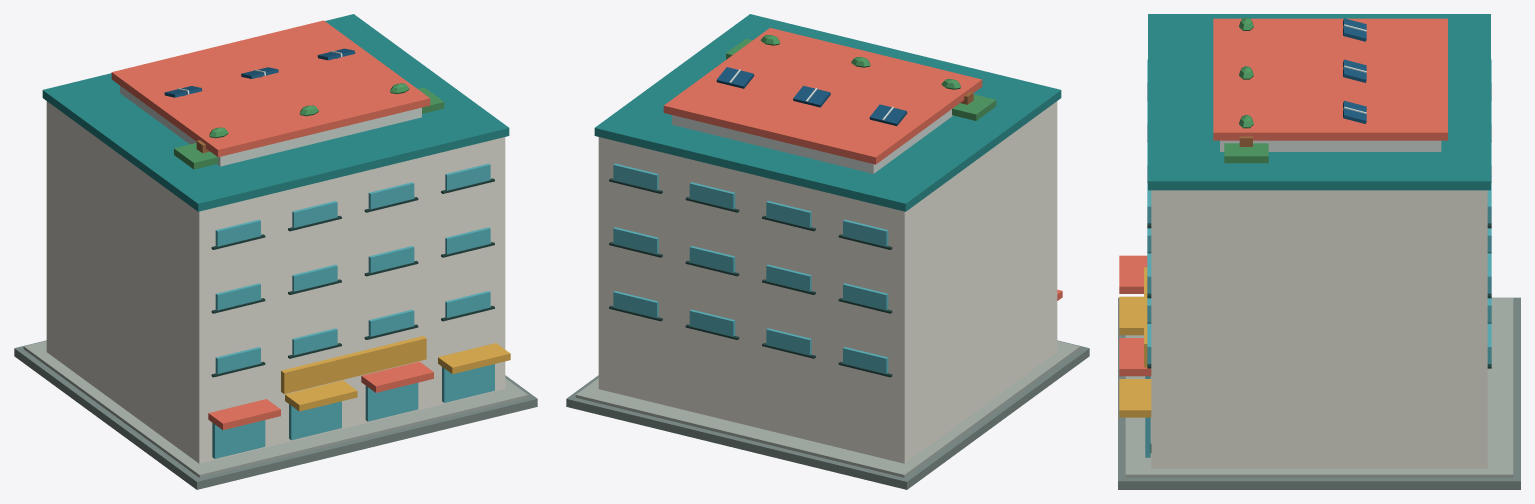
File: market_lv4.glb
3 views of the same model, side by side, from view 1: azimuth 30°, elevation 25°; view 2: azimuth 150°, elevation 25°; view 3: azimuth 270°, elevation 25° (orthographic). The views are drawn at different scales.
Parts seen in each view (by area): view 1: ivory, coral, teal, glass, concrete, pavement, gold, white, dark, green, solar; view 2: ivory, teal, coral, glass, concrete, pavement, white, dark, solar, green; view 3: ivory, coral, teal, concrete, pavement, gold, white, glass, green, solar.
Boxes of the visible parts, x1=… form: ivory: x1=46, y1=101, x2=505, y2=463; coral: x1=111, y1=20, x2=433, y2=429; teal: x1=42, y1=14, x2=509, y2=211; glass: x1=212, y1=163, x2=494, y2=458; concrete: x1=23, y1=341, x2=528, y2=477; pavement: x1=14, y1=340, x2=537, y2=489; gold: x1=281, y1=336, x2=510, y2=411; white: x1=120, y1=50, x2=421, y2=166; dark: x1=211, y1=178, x2=494, y2=377; green: x1=174, y1=83, x2=444, y2=169; solar: x1=164, y1=48, x2=355, y2=97; ivory: x1=598, y1=101, x2=1057, y2=463; teal: x1=594, y1=14, x2=1061, y2=211; coral: x1=663, y1=28, x2=1062, y2=300; glass: x1=613, y1=163, x2=888, y2=373; concrete: x1=575, y1=341, x2=1080, y2=477; pavement: x1=566, y1=340, x2=1089, y2=489; white: x1=672, y1=69, x2=973, y2=173; dark: x1=609, y1=178, x2=892, y2=377; solar: x1=716, y1=67, x2=907, y2=125; green: x1=726, y1=35, x2=996, y2=120; ivory: x1=1151, y1=190, x2=1487, y2=468; coral: x1=1119, y1=18, x2=1447, y2=376; teal: x1=1148, y1=14, x2=1490, y2=190; concrete: x1=1125, y1=298, x2=1513, y2=477; pavement: x1=1118, y1=297, x2=1520, y2=489; gold: x1=1119, y1=267, x2=1151, y2=417; white: x1=1220, y1=24, x2=1441, y2=151; glass: x1=1145, y1=59, x2=1491, y2=457; green: x1=1150, y1=17, x2=1268, y2=452; solar: x1=1343, y1=18, x2=1366, y2=123.
Size of the model in its own units: 9.8 by 8.29 by 9.1.
